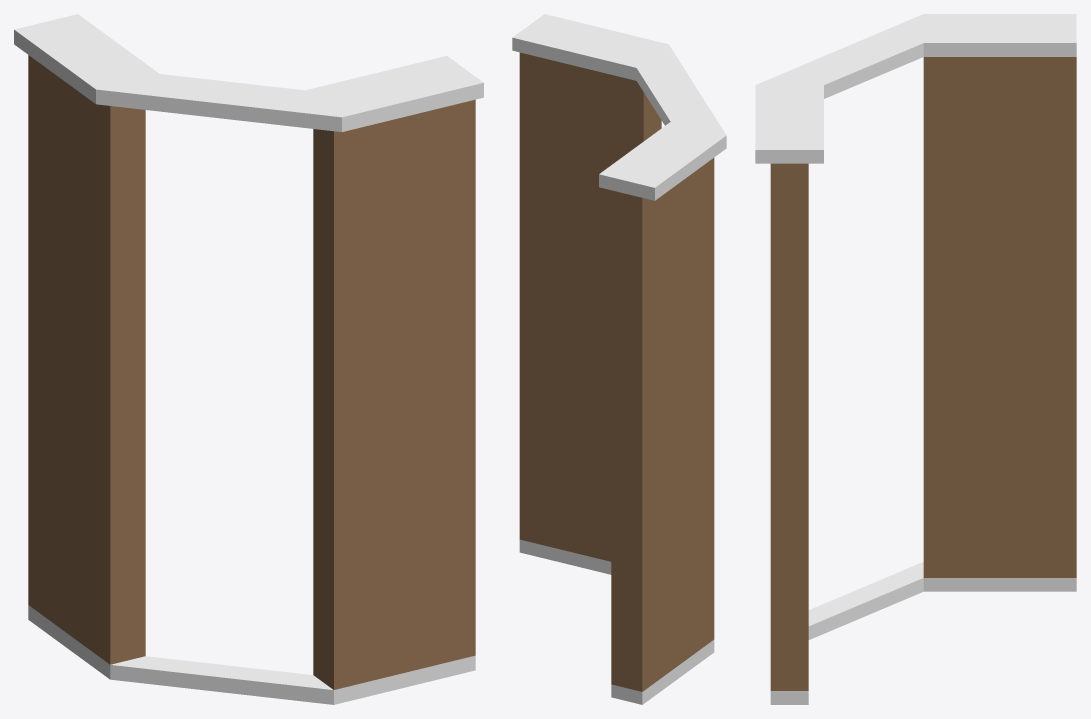
File: SM_4x4m_HighWindow_BevelCorner.fbx
3 views of the same model, side by side, from view 1: azimuth 30°, elevation 25°; view 2: azimuth 150°, elevation 25°; view 3: azimuth 270°, elevation 25° (orthographic). The views are drawn at different scales.
Parts seen in each view (by area): view 1: SM_4x4m_Window_BevelCorner.001; view 2: SM_4x4m_Window_BevelCorner.001; view 3: SM_4x4m_Window_BevelCorner.001.
Boxes of the visible parts, x1,y1,x2,y2 form: SM_4x4m_Window_BevelCorner.001: [14, 14, 483, 704]; SM_4x4m_Window_BevelCorner.001: [512, 14, 726, 704]; SM_4x4m_Window_BevelCorner.001: [755, 14, 1076, 704].
Bounding box in the file's own units: 210 × 210 × 400.
